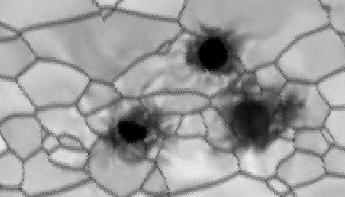good_void: (177, 16, 312, 158), (103, 77, 176, 165)
